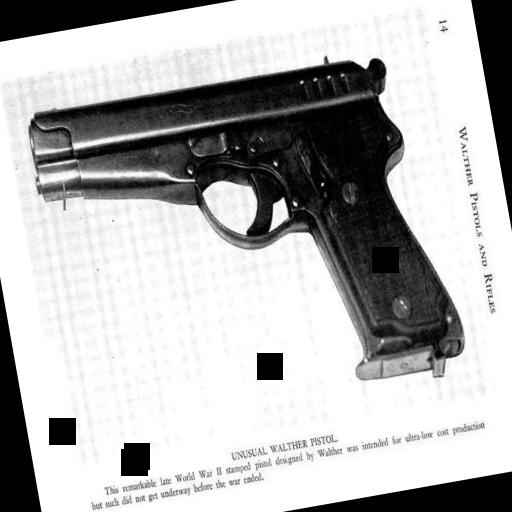Handgun: (14, 34, 474, 446)
